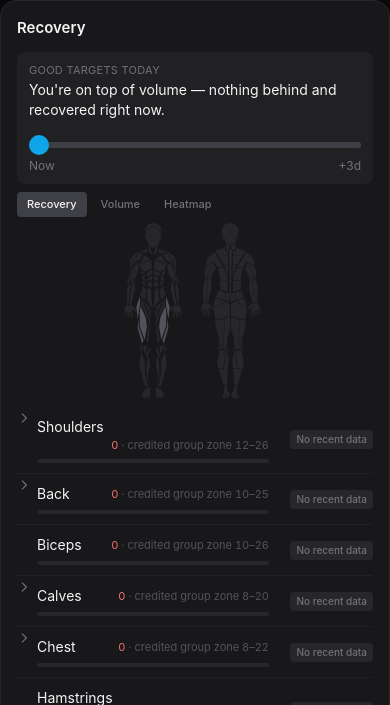
TrainReadinessCard › switches to the long-window heatmap: timeframe chips replace the weekly paint
Expected: the element with test id "readiness-map" is shown, top-left (17, 192), bottom-right (267, 398)
Step 1. Click the button with test id "readiness-map-mode-heat" → (188, 204), box top-left (154, 192), bottom-right (222, 216)
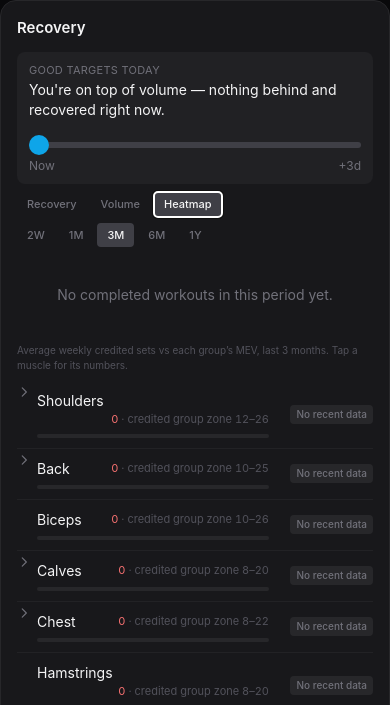
Expected: the element with test id "readiness-heatmap" is shown, top-left (17, 222), bottom-right (373, 373)
Expected: the element with test id "readiness-muscle-map" is gone
Expected: the text "No completed workouts in this period yet." is shown, top-left (57, 286), bottom-right (333, 303)
# Switching back restores the weekly paint.
Step 2. Click the button with test id "readiness-map-mode-recovery" → (52, 204), box top-left (17, 192), bottom-right (87, 216)
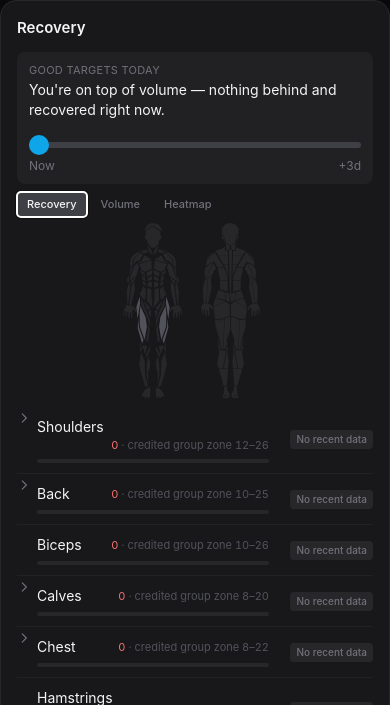
Expected: the element with test id "readiness-muscle-map" is shown, top-left (123, 222), bottom-right (267, 398)
Expected: the element with test id "readiness-heatmap" is gone
